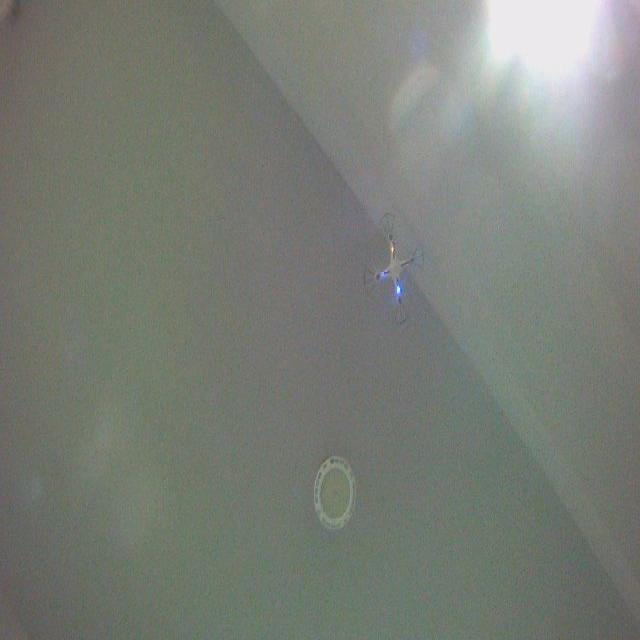drone: (362, 211, 426, 329)
